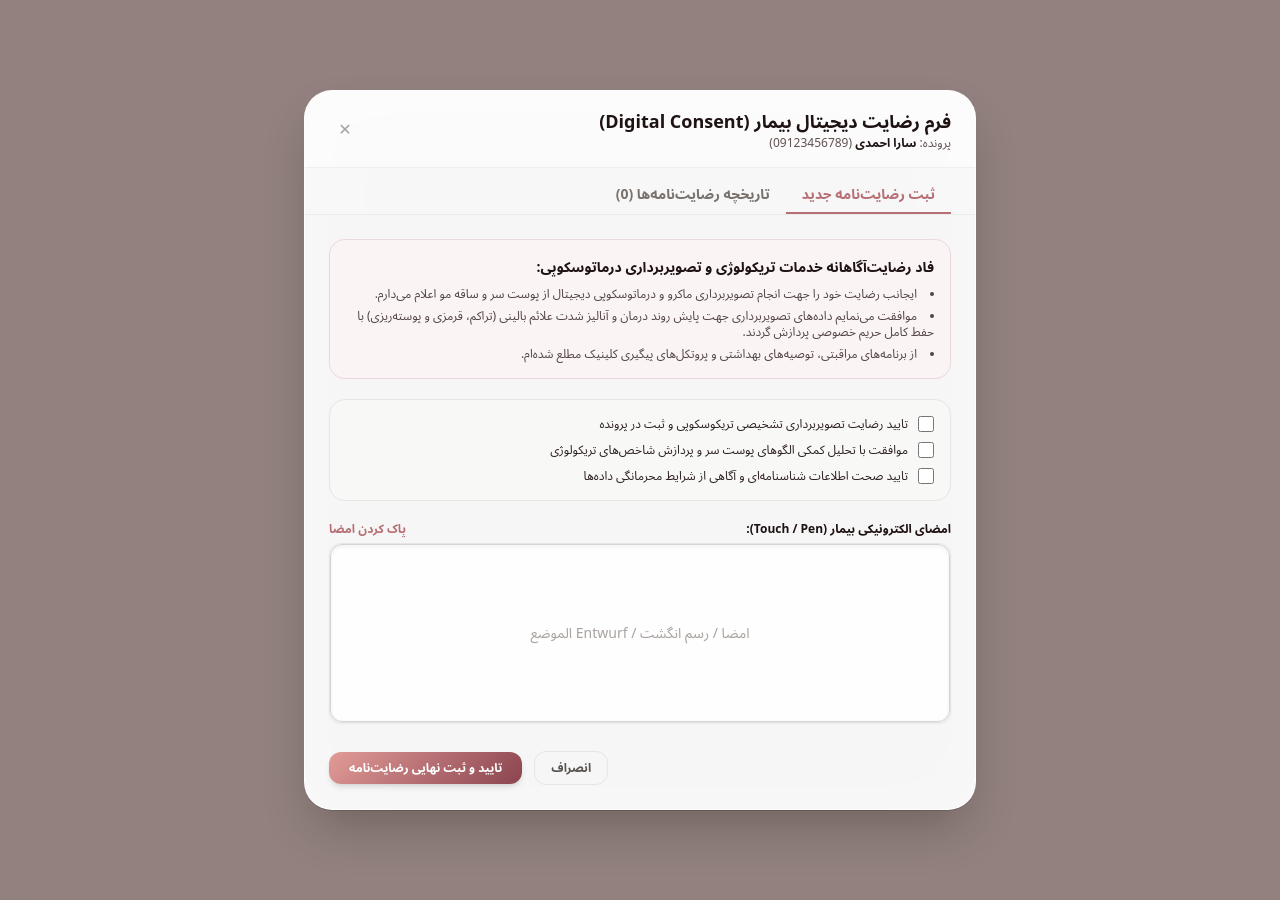
Test: DigitalConsentModal Component › shows error validation if submitted without agreeing to clinical terms
The width and height of the screenshot is (1280, 900).
Click the button "تایید و ثبت نهایی رضایت‌نامه".
click(426, 768)  # box [329,752,522,784]
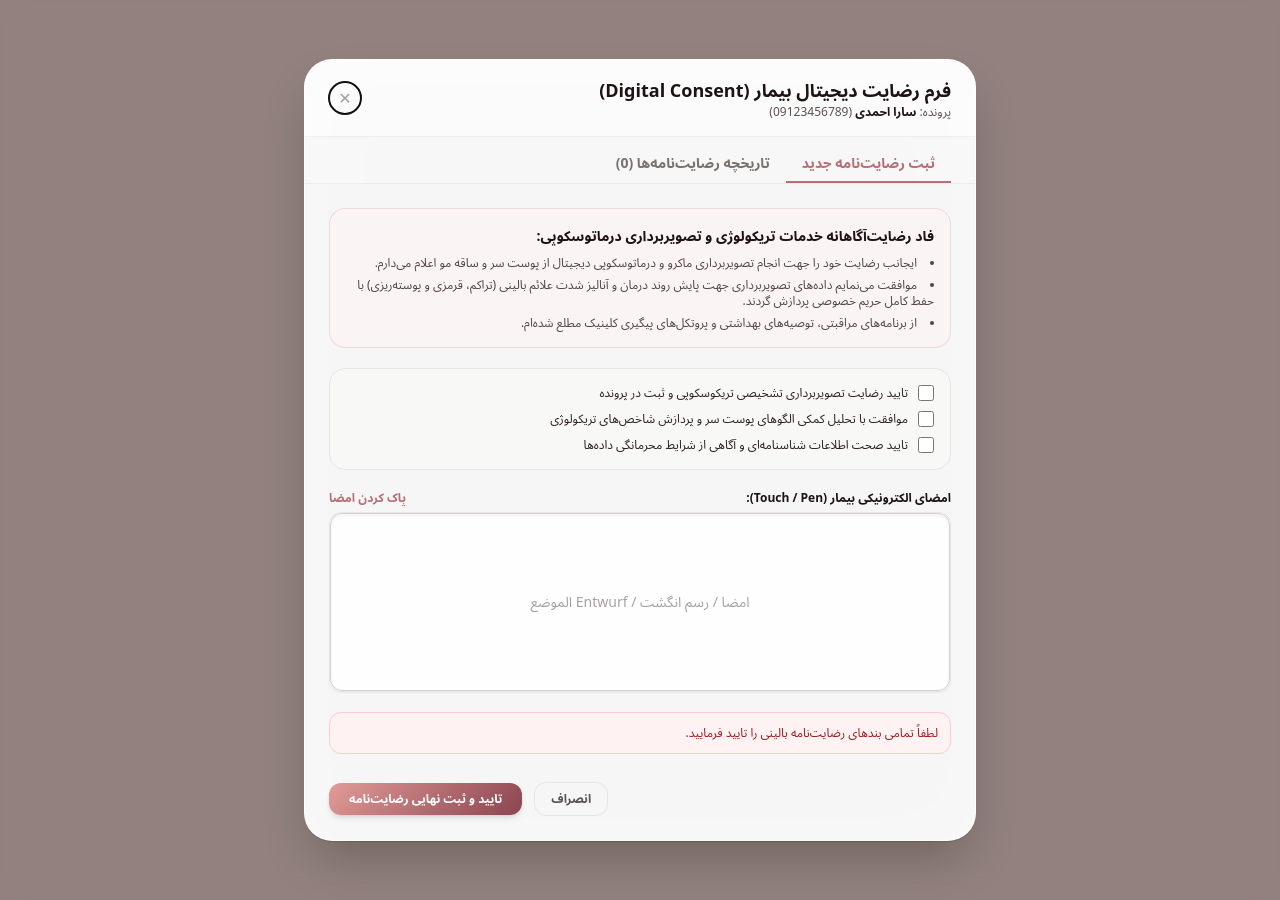
Check: the text "لطفاً تمامی بندهای رضایت‌نامه بالینی را تایید فرمایید." is shown, box [329,712,951,754]
